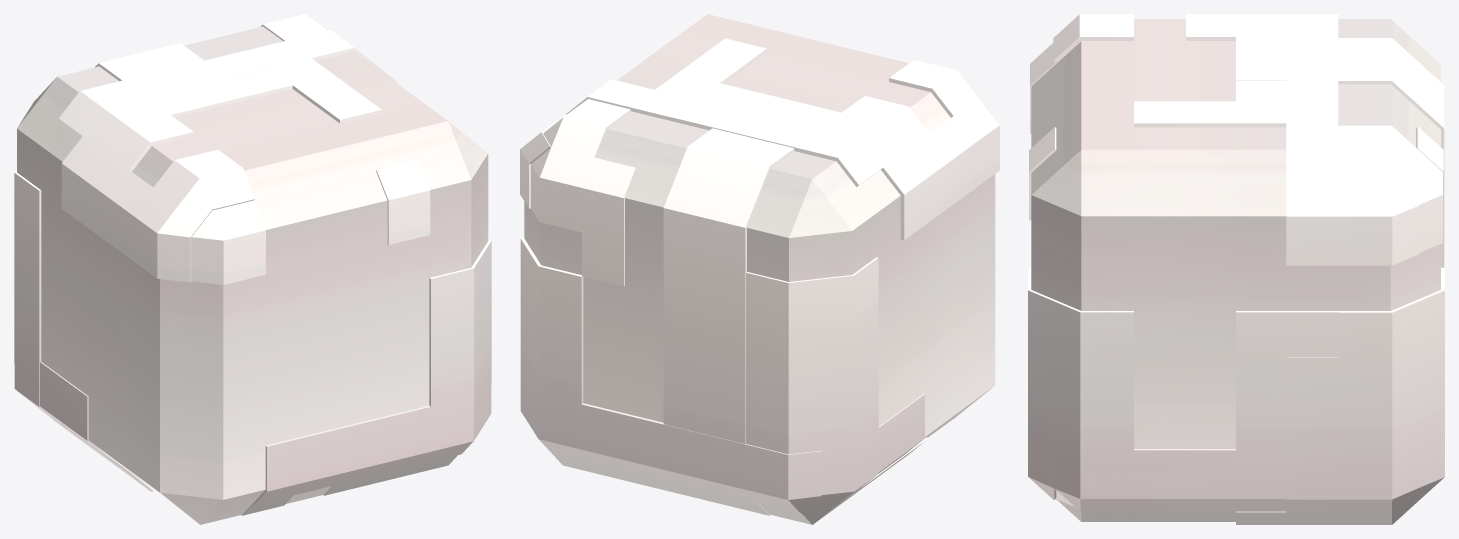
The model's file is 168ec152-ca7d-4c6b-bf75-8fbe23a200c4.glb.
3 views of the same model, side by side, from view 1: azimuth 30°, elevation 25°; view 2: azimuth 150°, elevation 25°; view 3: azimuth 270°, elevation 25° (orthographic). The views are drawn at different scales.
Visible parts, largest first — view 1: CyberPunkCubeShapeD.012; view 2: CyberPunkCubeShapeD.012; view 3: CyberPunkCubeShapeD.012.
Part boxes in pixels (bbox=[...]): CyberPunkCubeShapeD.012: bbox=[14, 14, 491, 524]; CyberPunkCubeShapeD.012: bbox=[520, 14, 999, 524]; CyberPunkCubeShapeD.012: bbox=[1028, 14, 1444, 524].
Size of what is drawn, in the model's own units: 0.7775 by 0.7766 by 0.7741.
1 material, 1 textured.
